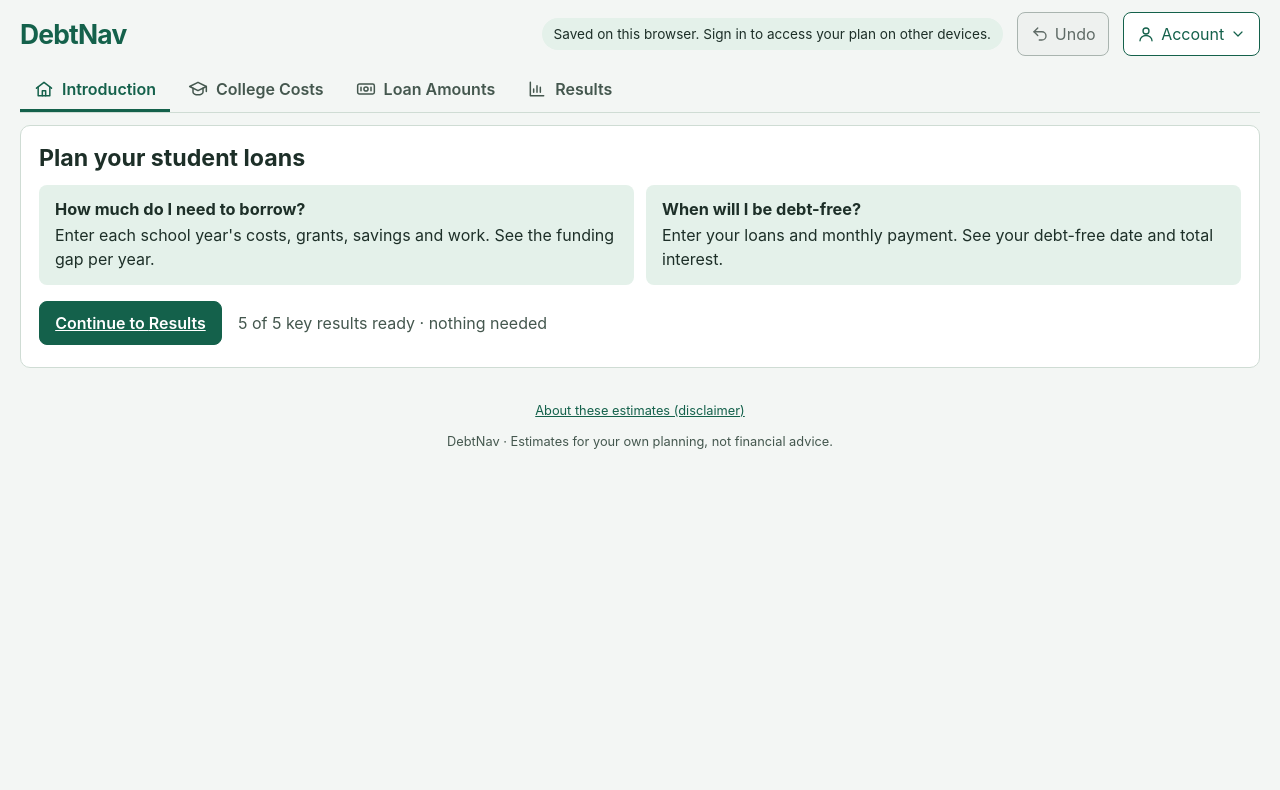
editable fields › lets the user clear a money field (error, results keep last valid) and type a new value (results update)
Click the link "College Costs": {"x": 256, "y": 88} [188,78,324,98]
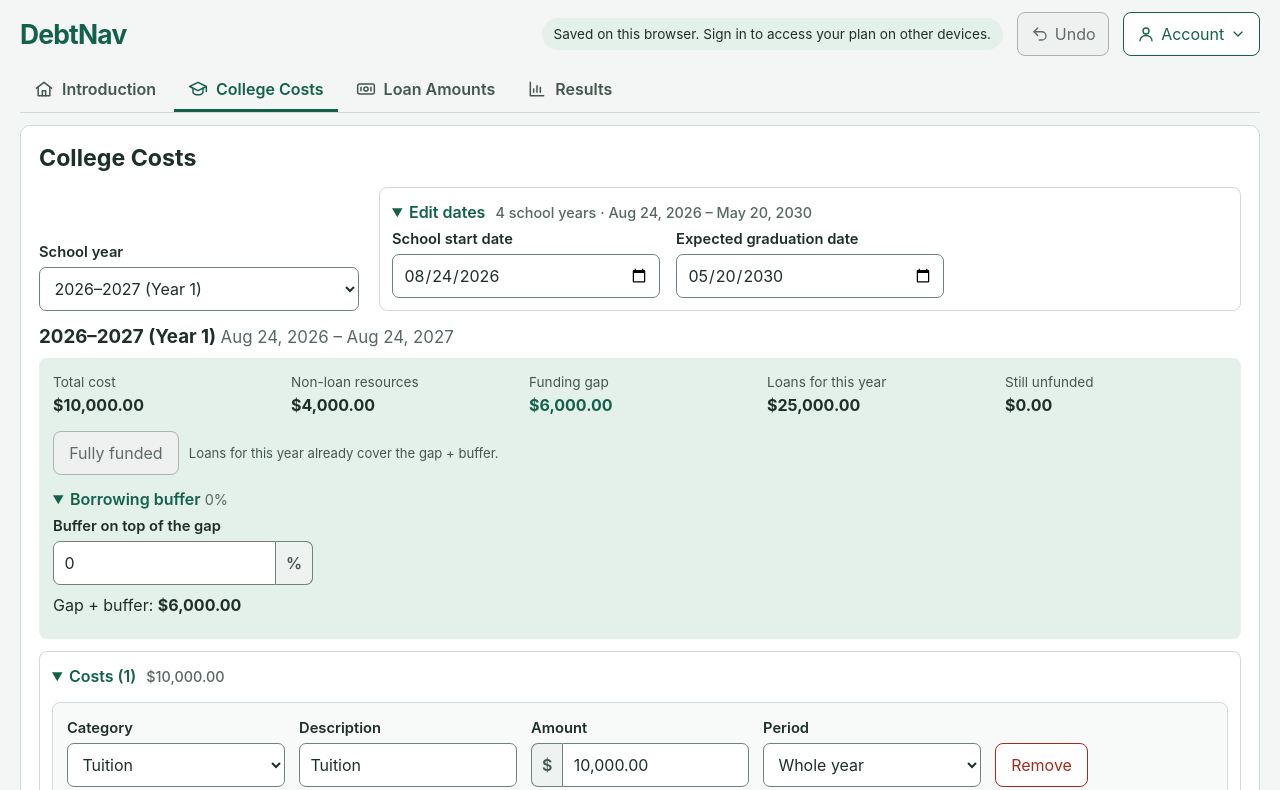
Expected: the field labelled "Amount" holds "10,000.00"
Clear the field labelled "Amount": {"x": 656, "y": 765} [562,743,749,787]
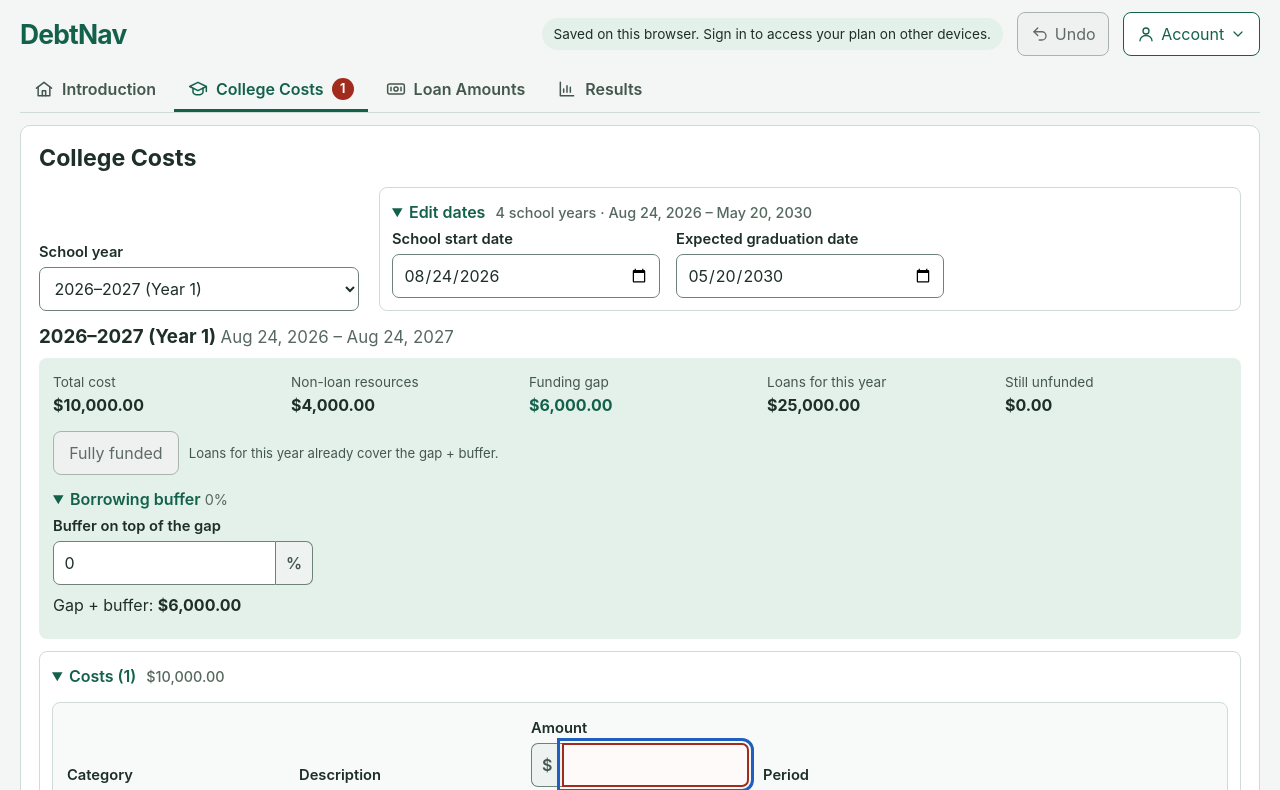
Expected: the field labelled "Amount" is marked as invalid
In the field labelled "Amount": {"x": 656, "y": 765} [562,743,749,787], type "12000"
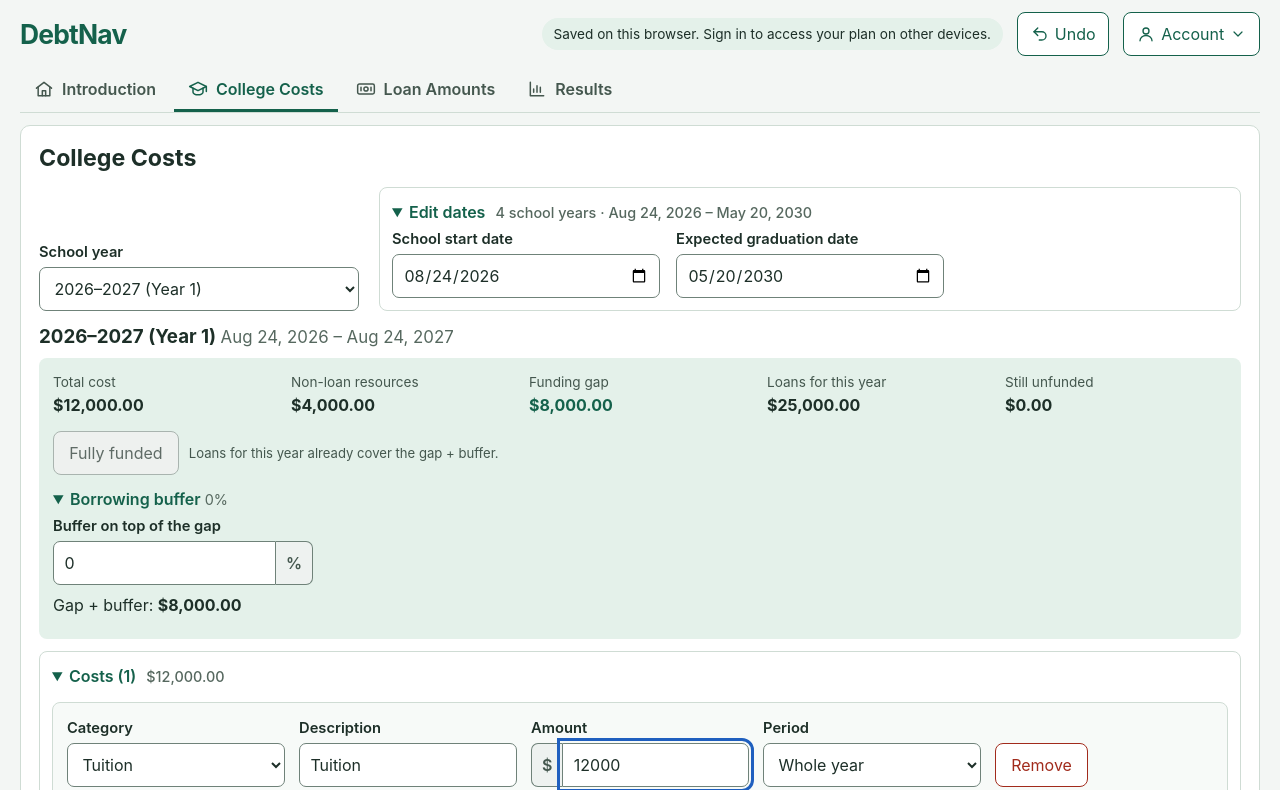
Expected: the field labelled "Amount" does not have attribute aria-invalid, [562,743,749,787]
Press Tab
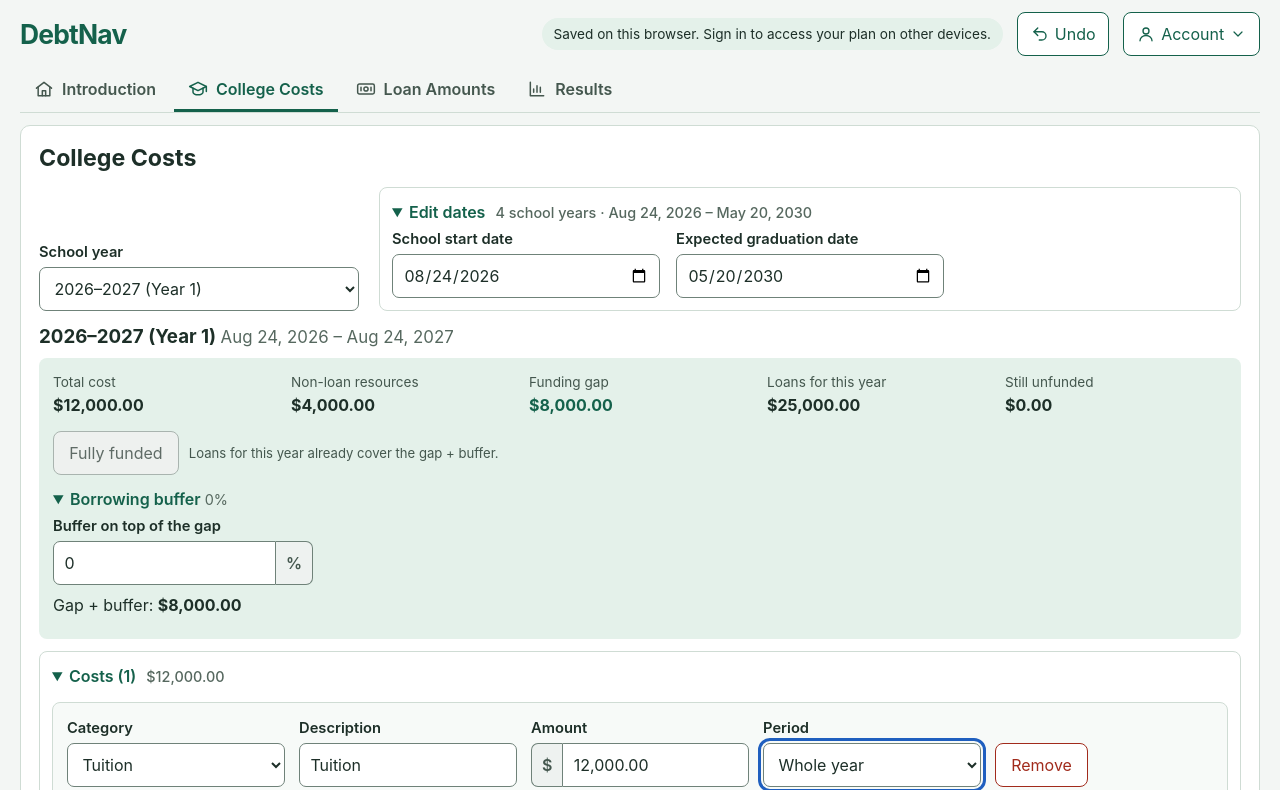
Expected: the field labelled "Amount" holds "12,000.00", [562,743,749,787]
